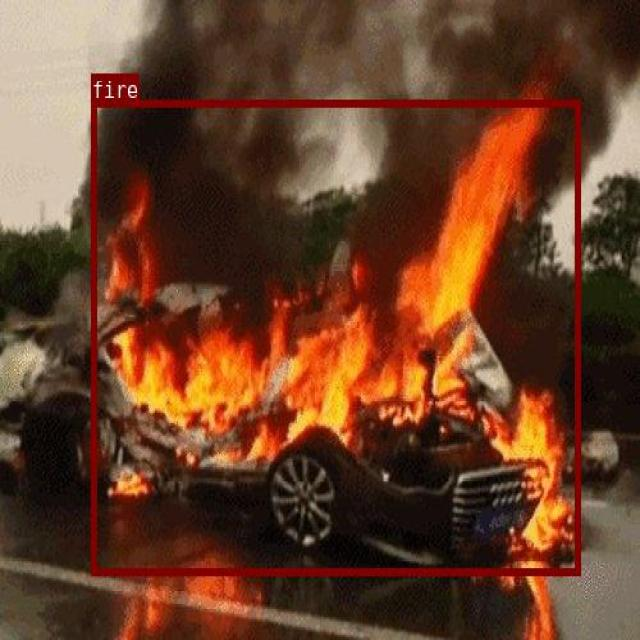fire: (91, 99, 580, 575)
